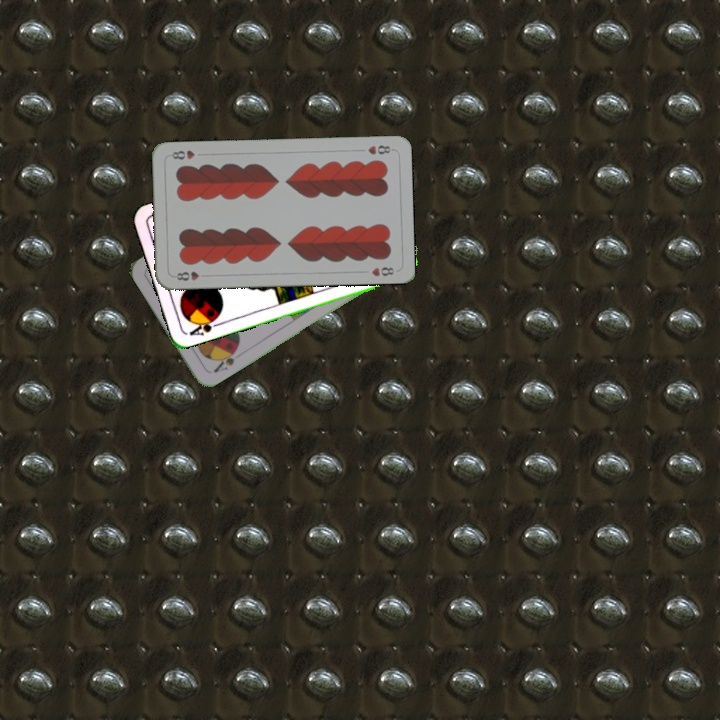H8: (364, 141, 395, 157), (173, 268, 202, 283)
SA: (185, 312, 223, 339), (209, 345, 240, 375)
